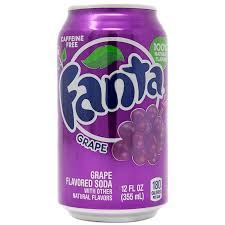fanta_can: (56, 5, 170, 222)
